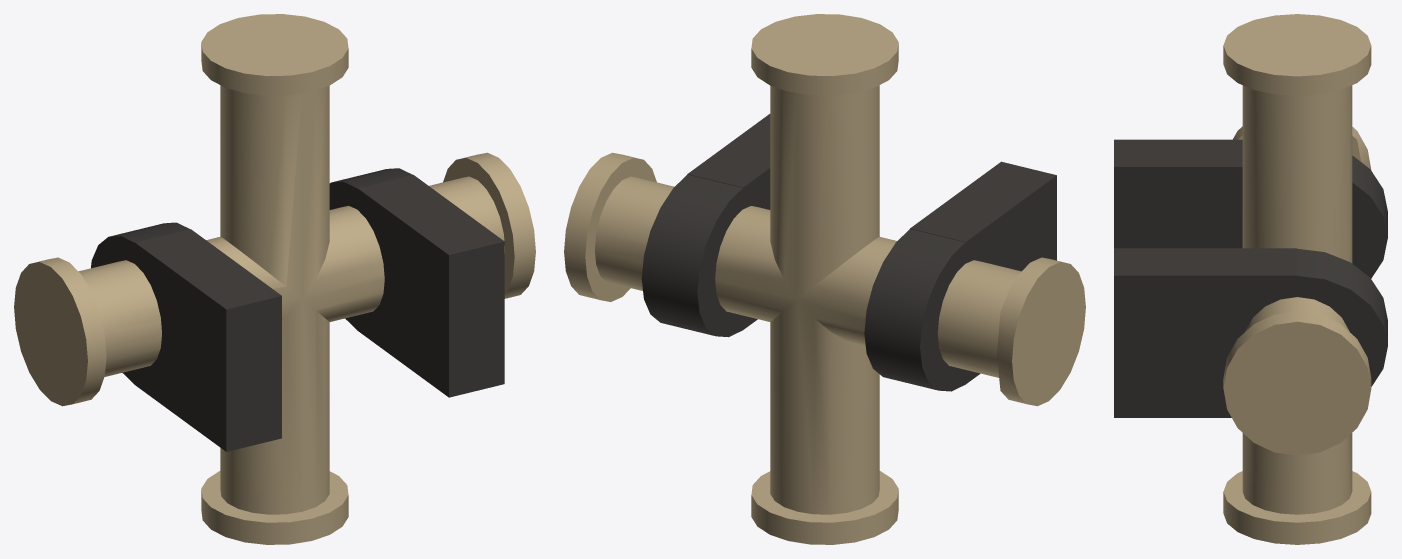
Rendered from pipe_shape_3.fbx.
3 views of the same model, side by side, from view 1: azimuth 30°, elevation 25°; view 2: azimuth 150°, elevation 25°; view 3: azimuth 270°, elevation 25° (orthographic).
Parts seen in each view (by area): view 1: pCylinder64, pCylinder72, pCylinder73; view 2: pCylinder64, pCylinder72, pCylinder73; view 3: pCylinder64, pCylinder73, pCylinder72.
Boxes of the visible parts, left/top/right/bottom form: pCylinder64: left=14, top=14, right=535, bottom=544; pCylinder72: left=91, top=222, right=281, bottom=451; pCylinder73: left=329, top=168, right=504, bottom=397; pCylinder64: left=564, top=14, right=1085, bottom=544; pCylinder72: left=864, top=161, right=1056, bottom=391; pCylinder73: left=641, top=114, right=770, bottom=337; pCylinder64: left=1223, top=14, right=1371, bottom=544; pCylinder73: left=1114, top=248, right=1387, bottom=417; pCylinder72: left=1114, top=139, right=1387, bottom=278.
Size of the model in its own units: 1.05 by 1.05 by 0.5587.
